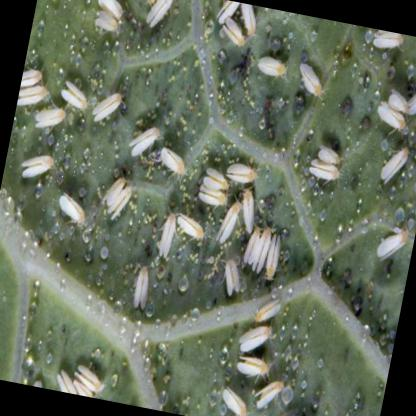whitefly: (215, 201, 241, 243), (380, 148, 408, 183), (90, 91, 121, 122), (129, 126, 159, 157), (237, 326, 270, 352), (252, 229, 271, 273), (254, 381, 284, 408), (58, 192, 85, 222), (158, 213, 175, 259), (300, 63, 322, 97), (266, 234, 281, 281), (242, 226, 260, 264), (256, 297, 282, 323), (22, 157, 53, 178), (102, 178, 125, 206), (35, 108, 64, 130), (160, 146, 182, 174), (258, 56, 286, 78), (224, 259, 240, 297), (202, 166, 227, 189), (135, 265, 148, 309), (226, 163, 255, 182), (179, 214, 202, 237), (243, 190, 255, 231)
